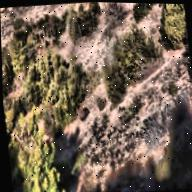boar: (79, 103, 93, 127)
